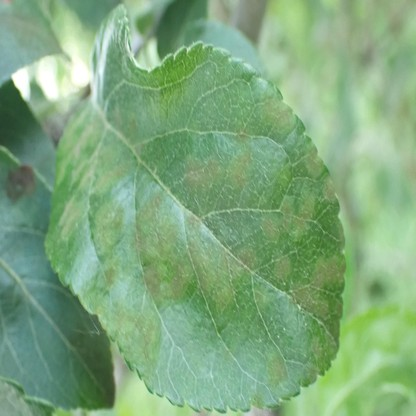scab: (58, 92, 346, 406), (4, 163, 36, 203)
